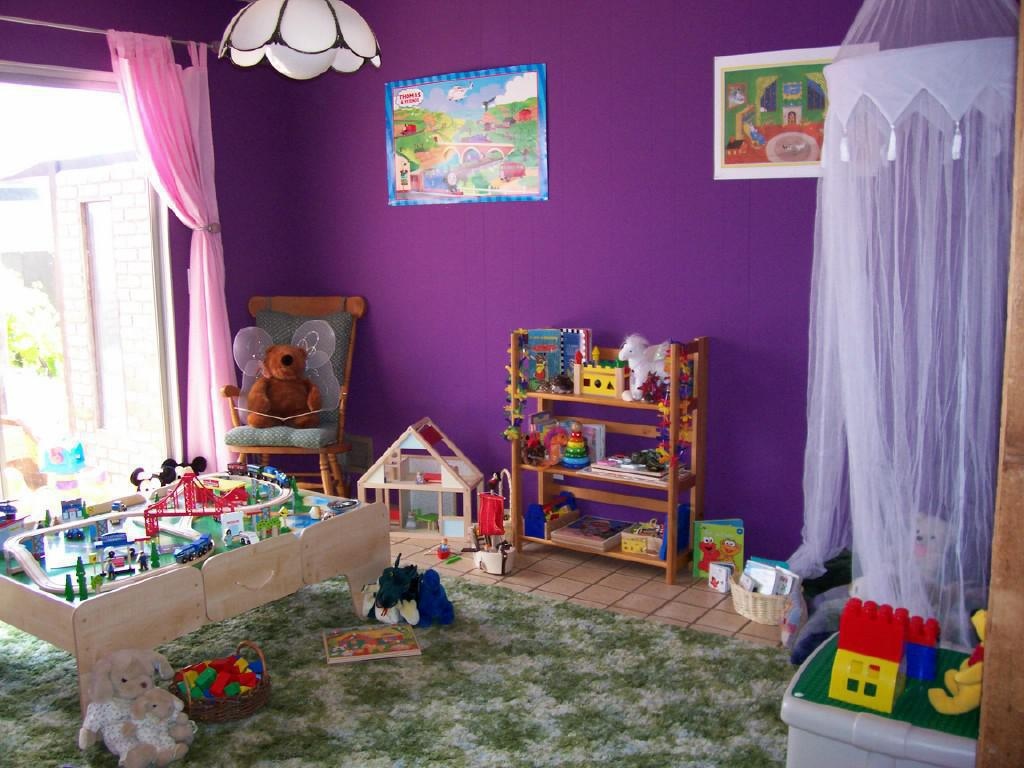Otro Obstaculo: (79, 647, 205, 760), (186, 650, 273, 731), (370, 564, 451, 638)
